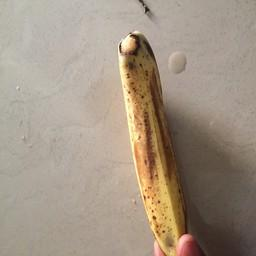Banana Ripe: (104, 26, 200, 256)
